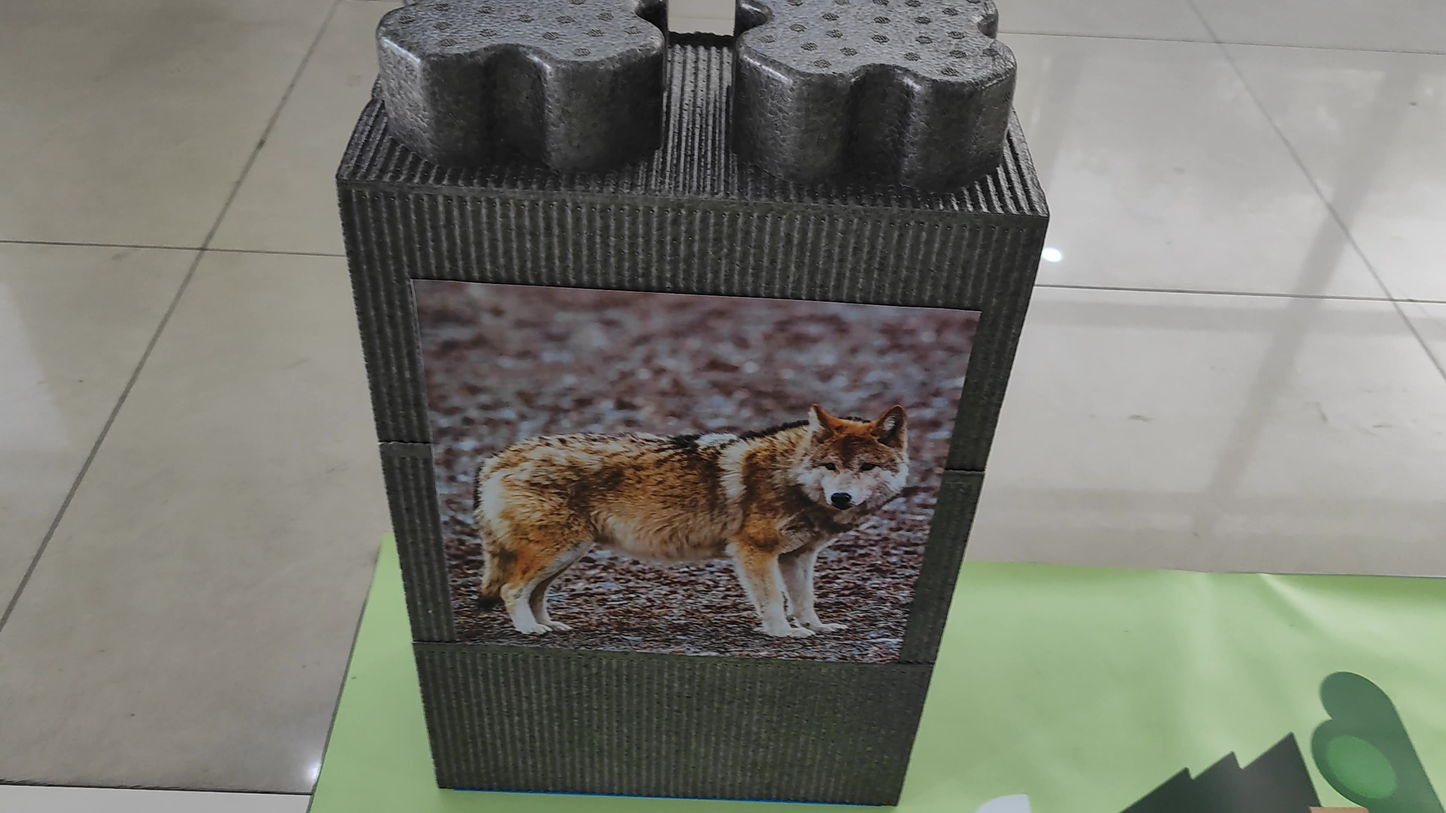wolf: (436, 344, 926, 646)
